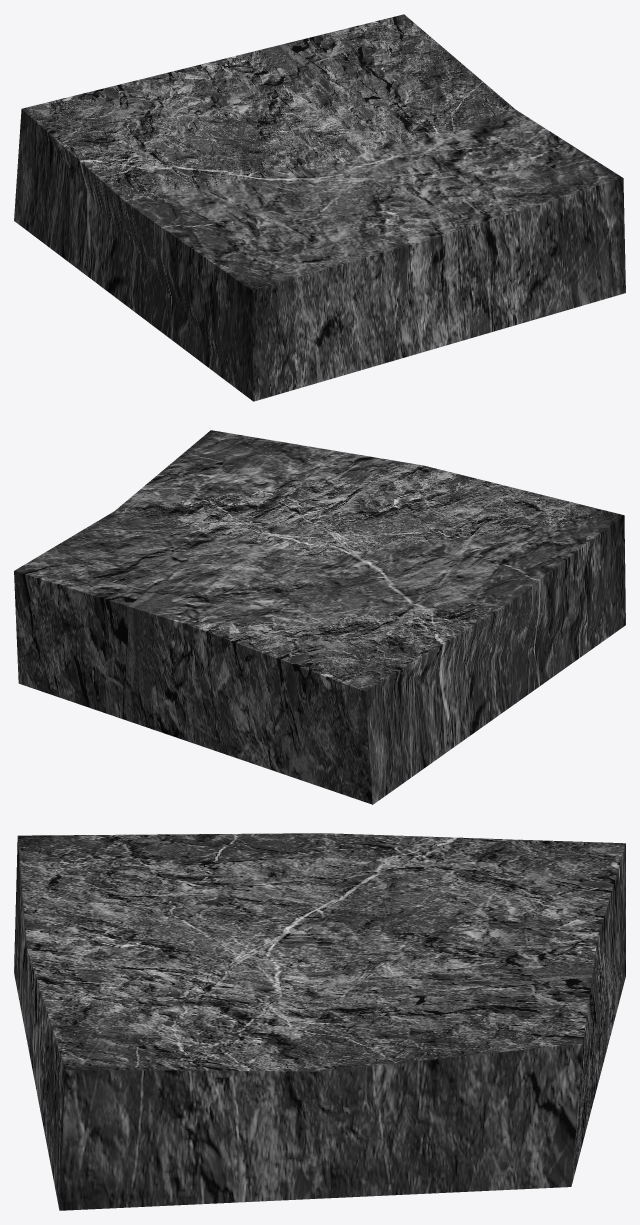
File: piso_piedra.glb
The picture shows the model from 3 angles, top to bottom: view 1: azimuth 30°, elevation 25°; view 2: azimuth 150°, elevation 25°; view 3: azimuth 270°, elevation 25°; orthographic projection. The views are drawn at different scales.
Parts seen in each view (by area): view 1: pisote; view 2: pisote; view 3: pisote.
Part boxes in pixels (x1,y1,x2,y2): pisote: (14, 14, 625, 401); pisote: (14, 430, 625, 804); pisote: (14, 833, 625, 1210).
Bounding box in the file's own units: 1.21 × 0.3758 × 1.3.
Materials: 1 (1 with a texture image).
